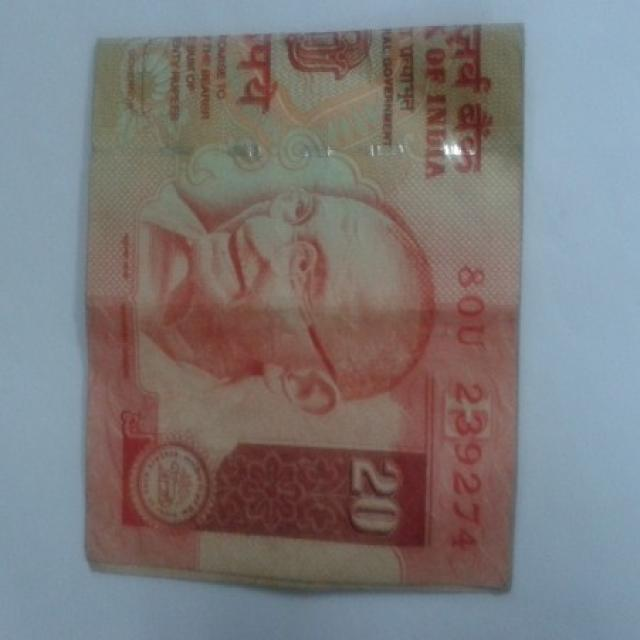20rs: (91, 32, 512, 594)
